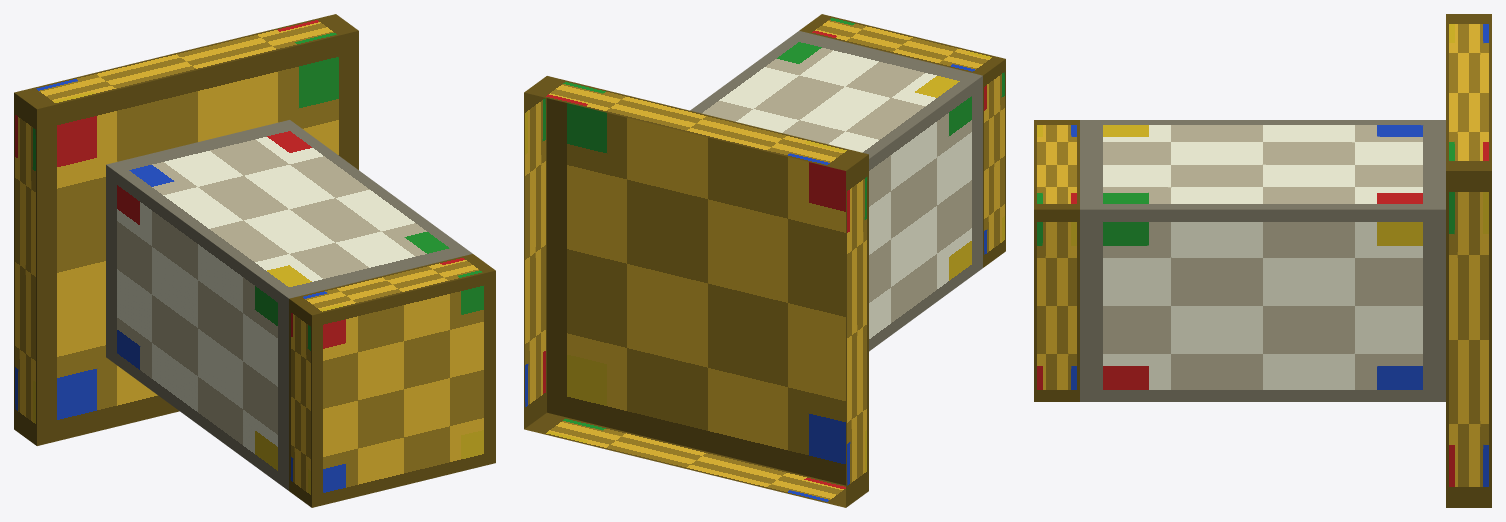
Rendered from terminal_hv.obj.
3 views of the same model, side by side, from view 1: azimuth 30°, elevation 25°; view 2: azimuth 150°, elevation 25°; view 3: azimuth 270°, elevation 25° (orthographic).
Size of the model in its own units: 508 by 508 by 625.
